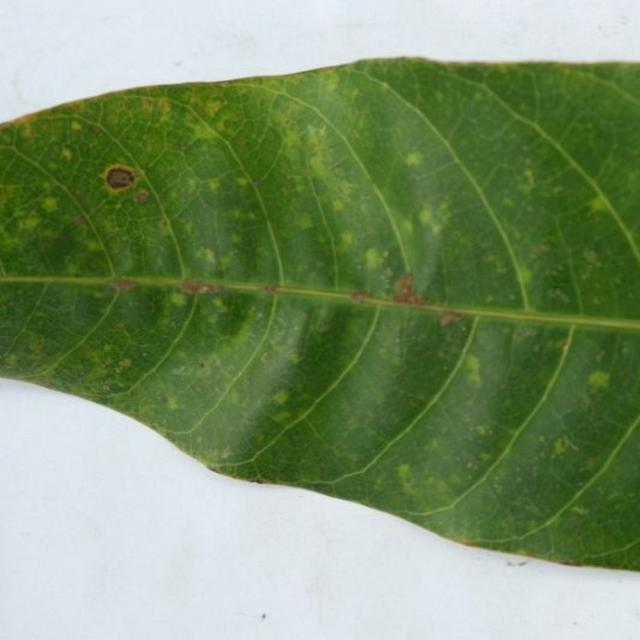Mango: (0, 60, 639, 570)
Powdery_Mildew: (550, 366, 628, 460), (298, 129, 354, 189), (460, 341, 497, 388), (357, 245, 407, 278), (391, 273, 432, 307), (395, 461, 427, 498), (187, 118, 224, 146), (418, 205, 446, 235), (462, 353, 483, 386), (179, 281, 224, 296), (307, 153, 329, 177), (586, 370, 611, 391), (363, 247, 383, 271), (587, 194, 612, 213), (140, 96, 164, 114), (107, 278, 137, 292), (514, 266, 533, 288), (439, 311, 464, 327), (202, 99, 223, 117), (548, 288, 570, 305), (40, 196, 59, 214), (3, 235, 22, 253), (582, 248, 600, 266), (349, 289, 372, 303), (338, 230, 355, 248), (553, 438, 570, 455), (1, 184, 21, 198), (169, 291, 186, 307), (201, 247, 217, 264), (404, 152, 422, 167), (397, 463, 412, 479), (165, 395, 180, 411), (297, 214, 313, 229), (273, 390, 289, 405), (400, 219, 414, 236), (522, 169, 535, 187), (22, 217, 40, 230), (21, 122, 35, 138), (85, 239, 103, 251), (219, 254, 234, 268), (30, 338, 45, 351), (133, 191, 149, 203), (60, 147, 73, 161), (207, 178, 221, 191), (5, 353, 19, 366), (571, 505, 589, 515), (73, 215, 86, 227), (235, 176, 249, 187), (314, 321, 329, 331), (306, 124, 318, 136), (70, 120, 82, 131), (477, 425, 488, 436), (221, 448, 232, 459), (159, 218, 170, 229), (119, 358, 131, 368), (260, 352, 270, 363), (102, 384, 110, 392), (198, 362, 206, 369)
